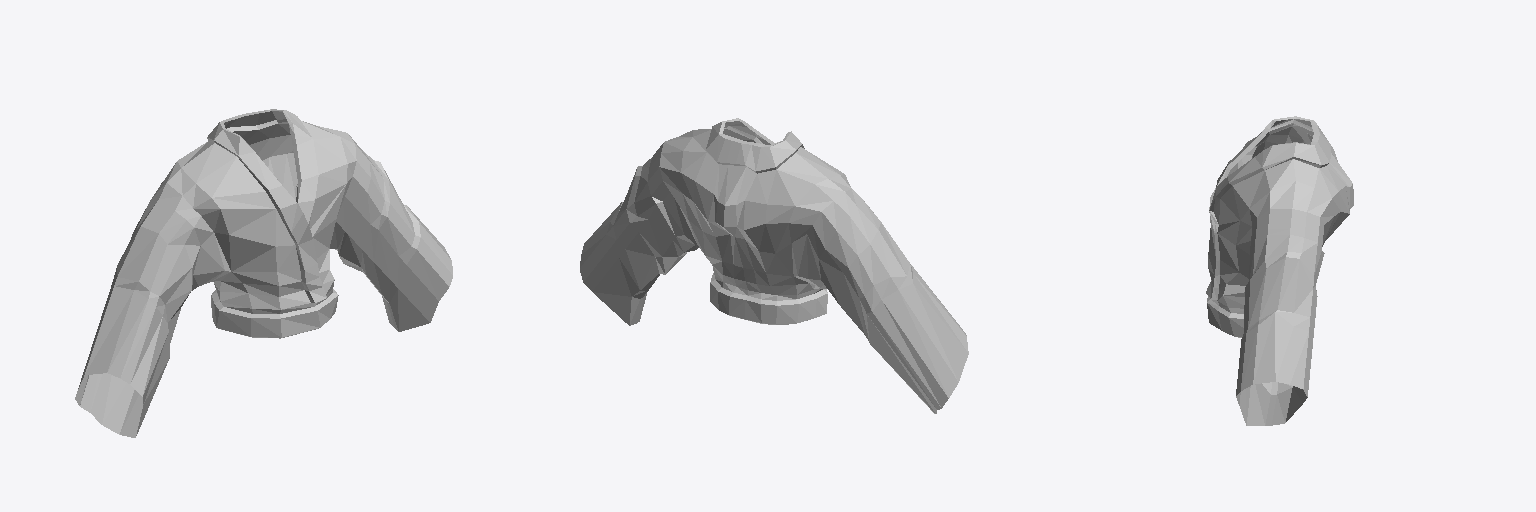
File: FullTopShirt.obj
3 views of the same model, side by side, from view 1: azimuth 30°, elevation 25°; view 2: azimuth 150°, elevation 25°; view 3: azimuth 270°, elevation 25° (orthographic).
Visible parts, largest first — view 1: VestOneSleeve:Mesh1 VestOneSleeve:polySurface5 VestOneSleeve:pol; view 2: VestOneSleeve:Mesh1 VestOneSleeve:polySurface5 VestOneSleeve:pol; view 3: VestOneSleeve:Mesh1 VestOneSleeve:polySurface5 VestOneSleeve:pol.
Part boxes in pixels (x1,y1,x2,y2): VestOneSleeve:Mesh1 VestOneSleeve:polySurface5 VestOneSleeve:pol: (75,109,452,437); VestOneSleeve:Mesh1 VestOneSleeve:polySurface5 VestOneSleeve:pol: (580,118,968,413); VestOneSleeve:Mesh1 VestOneSleeve:polySurface5 VestOneSleeve:pol: (1206,116,1353,425).
Bounding box in the file's own units: 60.45 × 40.74 × 20.89.